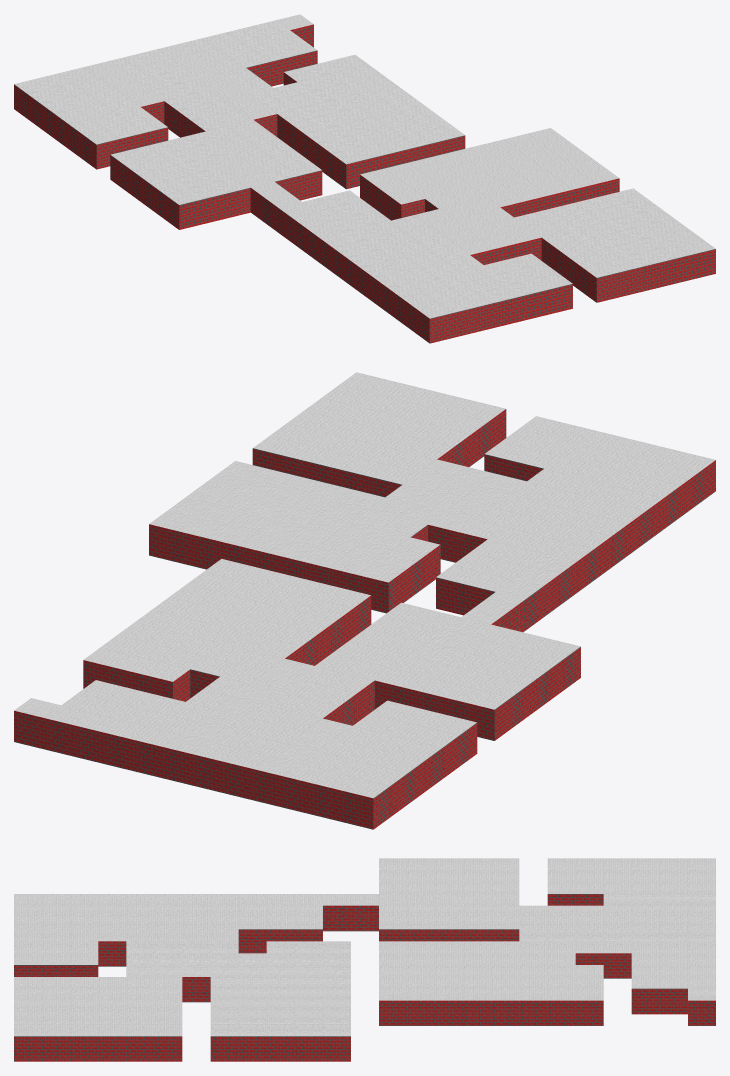
Rendered from dungeon.obj.
3 renders of one model, top to bottom at view 1: azimuth 30°, elevation 25°; view 2: azimuth 150°, elevation 25°; view 3: azimuth 270°, elevation 25°, orthographic. The views are drawn at different scales.
Visible parts, largest first — view 1: ceiling_Plane.140, walls_Plane.134; view 2: ceiling_Plane.140, walls_Plane.134; view 3: ceiling_Plane.140, walls_Plane.134.
Part boxes in pixels (x1,y1,x2,y2): ceiling_Plane.140: [14, 14, 715, 318]; walls_Plane.134: [14, 24, 715, 343]; ceiling_Plane.140: [14, 372, 715, 798]; walls_Plane.134: [14, 409, 715, 829]; ceiling_Plane.140: [14, 858, 715, 1036]; walls_Plane.134: [14, 894, 715, 1061].
Size of the model in its own units: 15 by 1 by 25.
3 materials, 3 textured.
